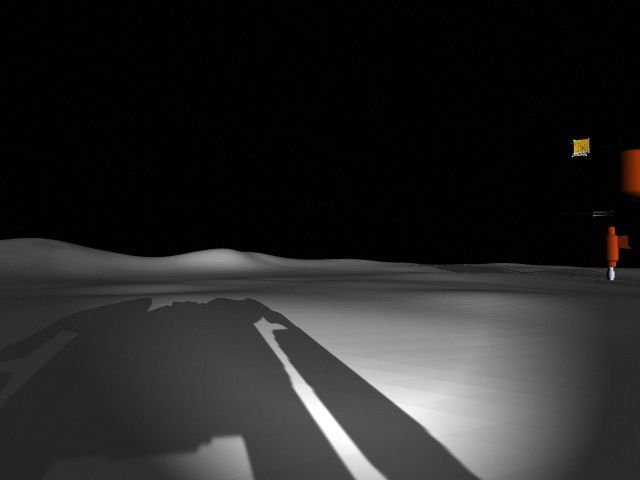cubesat: (563, 133, 595, 160)
